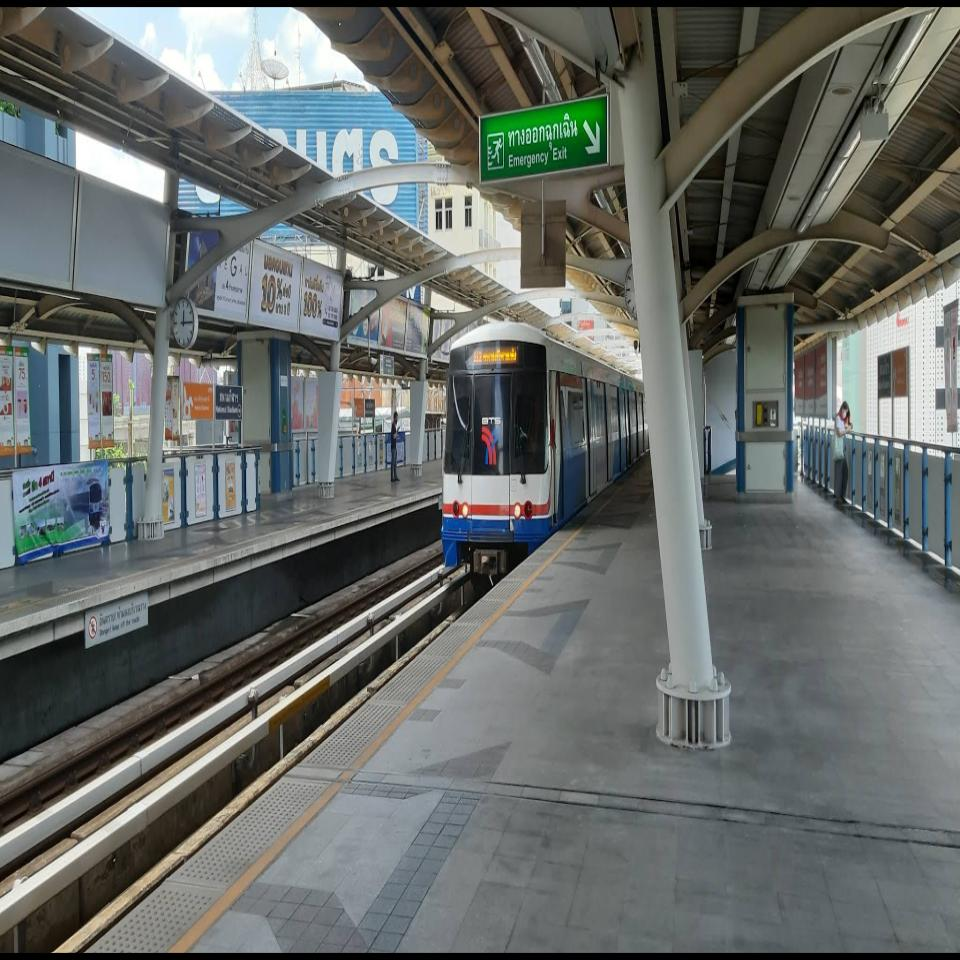National Stadium: (182, 381, 214, 421), (214, 384, 243, 421)
